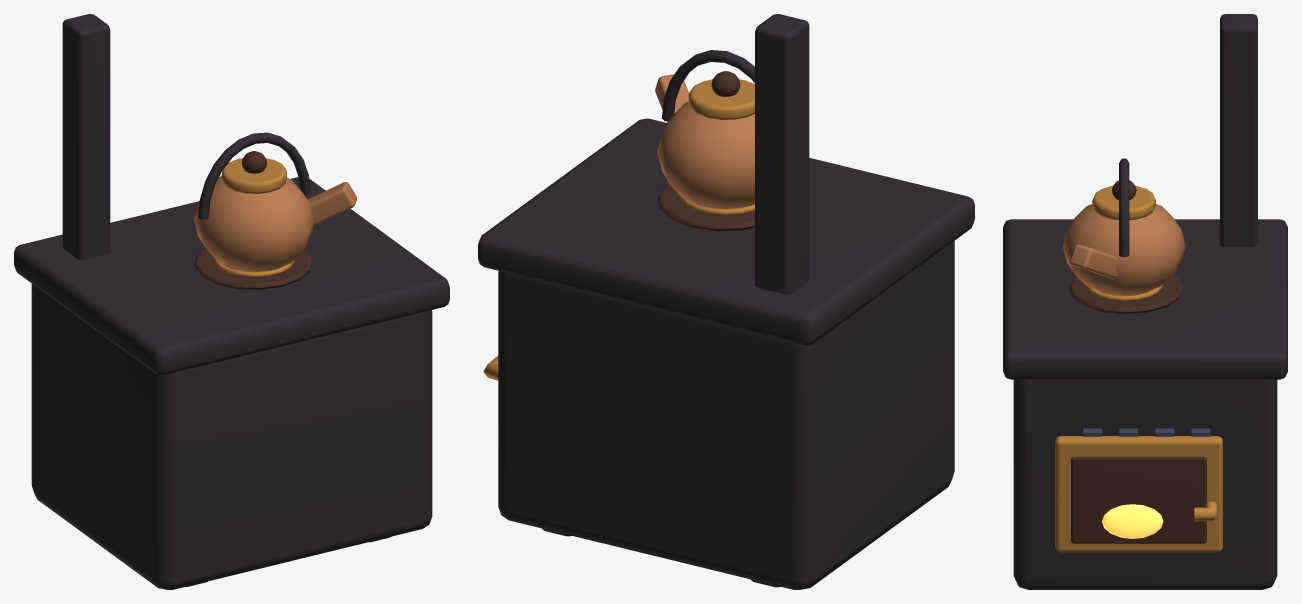
Rendered from kitchen-hearth.glb.
3 renders of one model, left to right at view 1: azimuth 30°, elevation 25°; view 2: azimuth 150°, elevation 25°; view 3: azimuth 270°, elevation 25°, orthographic. The views are drawn at different scales.
Parts seen in each view (by area): view 1: kitchen_hearth_pivot_Mesh; view 2: kitchen_hearth_pivot_Mesh; view 3: kitchen_hearth_pivot_Mesh, Hearth_flames.001_Mesh.
Part boxes in pixels (x1=…): kitchen_hearth_pivot_Mesh: x1=14, y1=14, x2=449, y2=589; kitchen_hearth_pivot_Mesh: x1=478, y1=14, x2=974, y2=589; kitchen_hearth_pivot_Mesh: x1=1003, y1=14, x2=1287, y2=589; Hearth_flames.001_Mesh: x1=1102, y1=504, x2=1163, y2=538.
Bounding box in the file's own units: 1.71 × 2.43 × 1.34.
